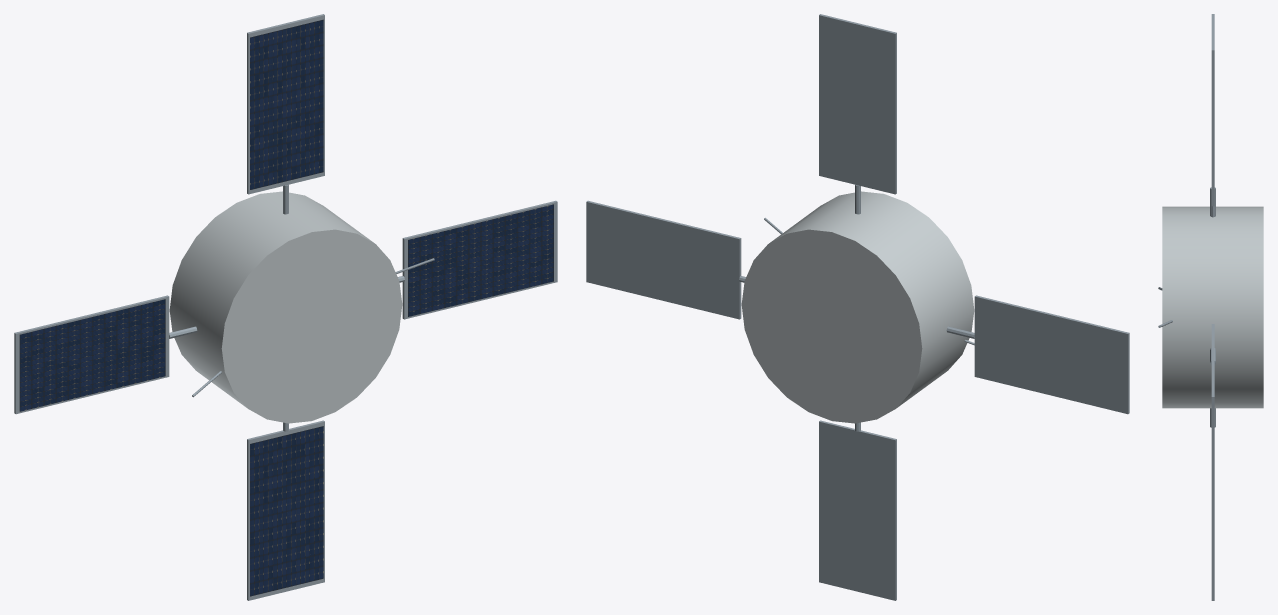
Rendered from ref-so-m-24293.glb.
3 views of the same model, side by side, from view 1: azimuth 30°, elevation 25°; view 2: azimuth 150°, elevation 25°; view 3: azimuth 270°, elevation 25° (orthographic). The views are drawn at different scales.
Visible parts, largest first — view 1: Photovoltaic laminates (×4), Spacecraft body, Array frame (×4); view 2: Array frame (×4), Spacecraft body; view 3: Spacecraft body, Array frame (×3).
Boxes of the visible parts, left/top/right/bottom form: Photovoltaic laminates (×4): left=19, top=19, right=553, bottom=596; Spacecraft body: left=169, top=191, right=402, bottom=423; Array frame (×4): left=14, top=14, right=557, bottom=600; Array frame (×4): left=586, top=14, right=1129, bottom=600; Spacecraft body: left=741, top=191, right=974, bottom=423; Spacecraft body: left=1162, top=206, right=1263, bottom=408; Array frame (×3): left=1211, top=14, right=1214, bottom=600.
Size of the model in its own units: 6 by 6 by 1.04.
Materials: 3 (1 with a texture image).
